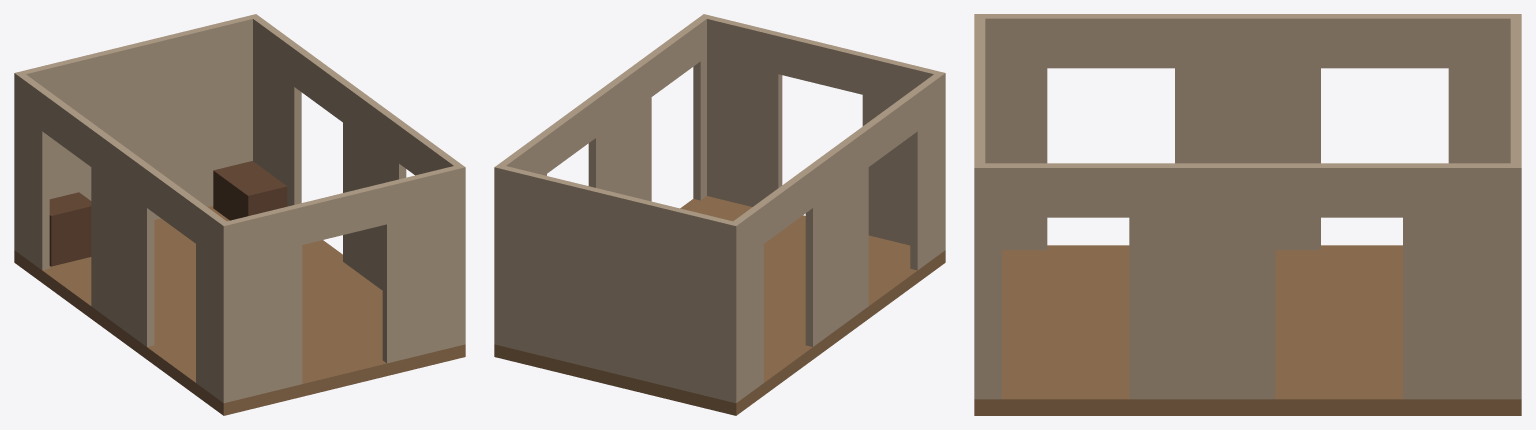
The model's file is lobby.glb.
3 renders of one model, left to right at view 1: azimuth 30°, elevation 25°; view 2: azimuth 150°, elevation 25°; view 3: azimuth 270°, elevation 25°, orthographic. The views are drawn at different scales.
Parts seen in each view (by area): view 1: Lobby north wall end, Lobby Floor, Lobby south wall segment 1, Lobby south wall end, Lobby west wall segment 2, Lobby east wall segment 1, Lobby east wall segment 2, Lobby west wall segment 1, Lobby west wall end, Lobby south wall door 1 lintel, Lobby Bench, Lobby Welcome console (+4 smaller); view 2: Lobby north wall end, Lobby Floor, Lobby south wall end, Lobby west wall segment 2, Lobby east wall segment 2, Lobby south wall segment 1, Lobby west wall end, Lobby west wall segment 1, Lobby south wall door 1 lintel, Lobby west wall door 2 lintel, Lobby east wall door 2 lintel, Lobby east wall end (+3 smaller); view 3: Lobby Floor, Lobby east wall segment 2, Lobby east wall segment 1, Lobby west wall segment 2, Lobby west wall end, Lobby west wall segment 1, Lobby west wall door 1 lintel, Lobby west wall door 2 lintel, Lobby east wall door 1 lintel, Lobby east wall door 2 lintel, Lobby east wall end, Lobby north wall end (+3 smaller).
Boxes of the visible parts, x1,y1,x2,y2 form: Lobby north wall end: [14, 14, 259, 252]; Lobby Floor: [14, 206, 465, 415]; Lobby south wall segment 1: [219, 204, 302, 403]; Lobby south wall end: [382, 164, 465, 363]; Lobby west wall segment 2: [91, 127, 154, 346]; Lobby east wall segment 1: [252, 14, 301, 206]; Lobby east wall segment 2: [343, 83, 406, 290]; Lobby west wall segment 1: [14, 72, 49, 270]; Lobby west wall end: [196, 204, 230, 402]; Lobby south wall door 1 lintel: [298, 183, 386, 244]; Lobby Bench: [213, 161, 287, 220]; Lobby Welcome console: [49, 192, 91, 266]; Lobby north wall end: [494, 164, 740, 403]; Lobby Floor: [494, 196, 945, 415]; Lobby south wall end: [700, 14, 782, 206]; Lobby west wall segment 2: [805, 127, 868, 346]; Lobby east wall segment 2: [588, 57, 651, 201]; Lobby south wall segment 1: [862, 54, 945, 250]; Lobby west wall end: [910, 72, 945, 270]; Lobby west wall segment 1: [729, 204, 763, 402]; Lobby south wall door 1 lintel: [778, 33, 866, 94]; Lobby west wall door 2 lintel: [862, 91, 917, 166]; Lobby east wall door 2 lintel: [645, 21, 700, 96]; Lobby east wall end: [693, 14, 707, 200]; Lobby Floor: [974, 245, 1521, 415]; Lobby east wall segment 2: [1129, 163, 1275, 399]; Lobby east wall segment 1: [1403, 163, 1521, 399]; Lobby west wall segment 2: [1175, 14, 1320, 249]; Lobby west wall end: [974, 14, 1047, 249]; Lobby west wall segment 1: [1448, 14, 1520, 163]; Lobby west wall door 1 lintel: [1321, 14, 1448, 68]; Lobby west wall door 2 lintel: [1047, 14, 1174, 68]; Lobby east wall door 1 lintel: [1275, 163, 1402, 217]; Lobby east wall door 2 lintel: [1002, 163, 1129, 217]; Lobby east wall end: [974, 163, 1001, 399]; Lobby north wall end: [1510, 14, 1521, 399].
Bounding box in the file's own units: 4 × 3 × 6.
